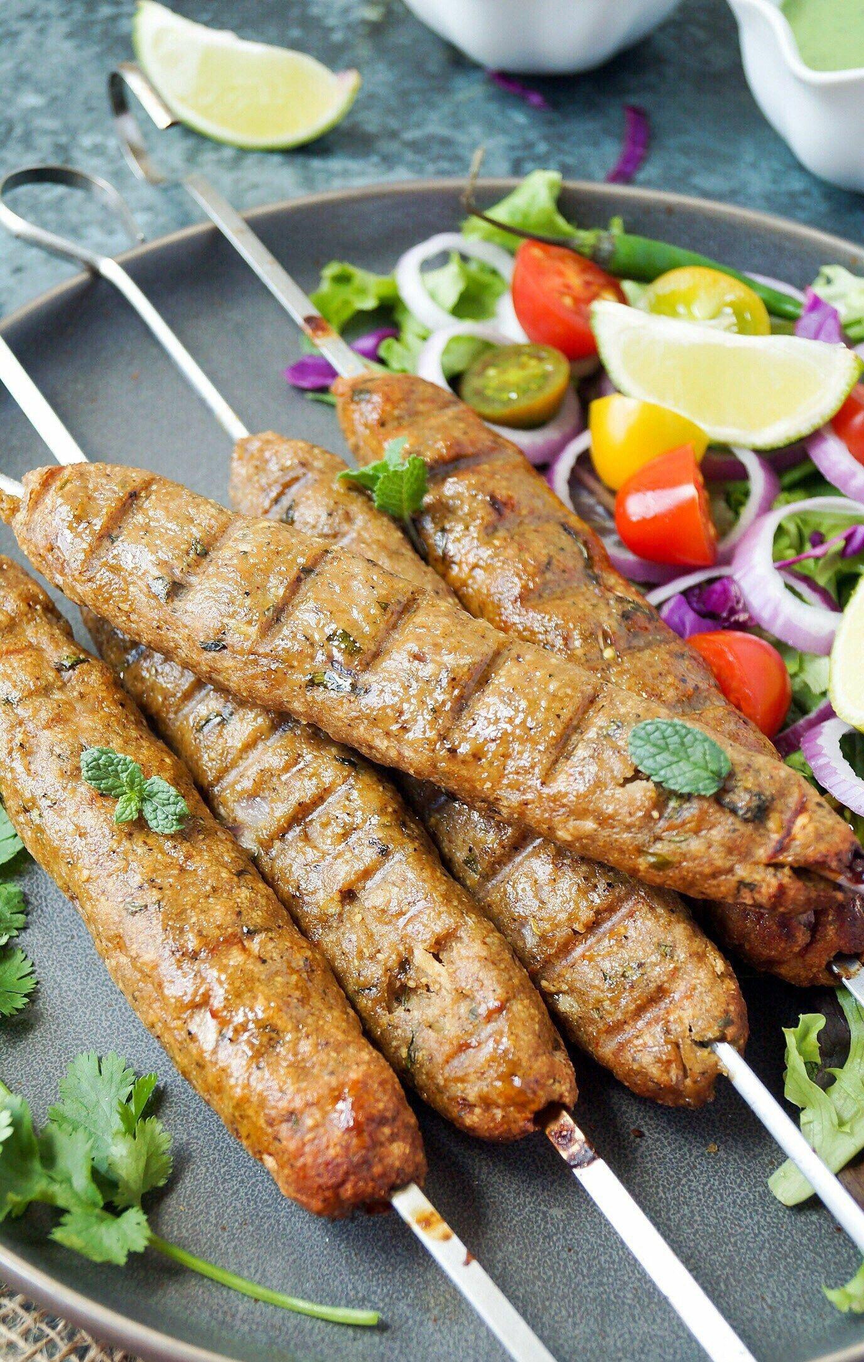Kebab: (23, 456, 859, 926), (229, 431, 750, 1106), (332, 375, 864, 983), (0, 561, 421, 1216), (81, 607, 571, 1136)
